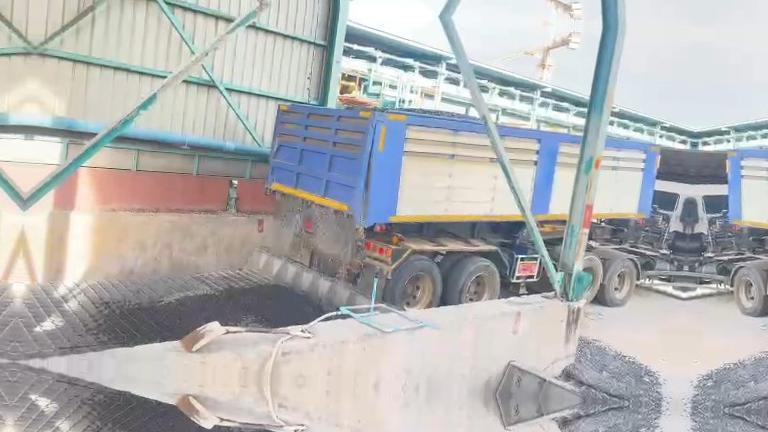gravel: (563, 338, 672, 406), (279, 197, 363, 283)
